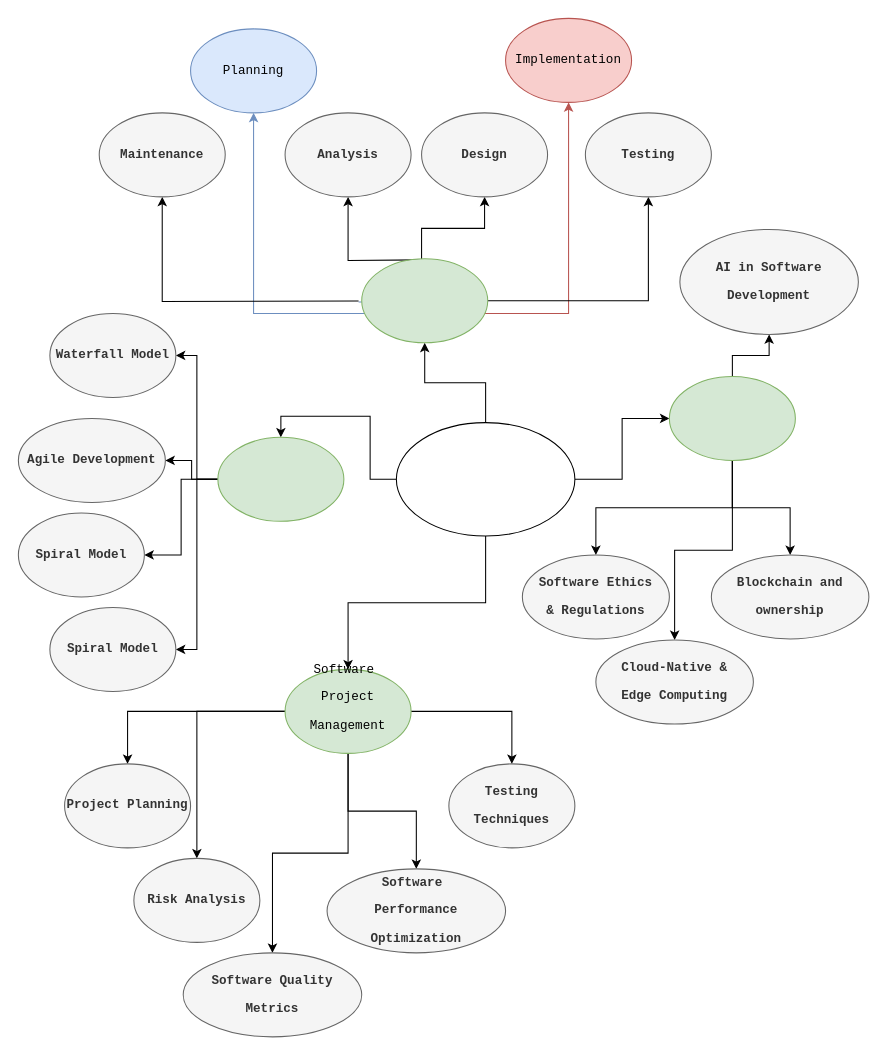
Some shapes in this 887 by 1055 pixel diagram are drawn without their labels. Each missing label, with the box of its shape:
Emerging Trends: (668, 375, 795, 460)
Software Development: (361, 258, 488, 343)
Software Engineering: (395, 422, 575, 536)
Software Engineering Paradigms: (217, 436, 344, 521)
